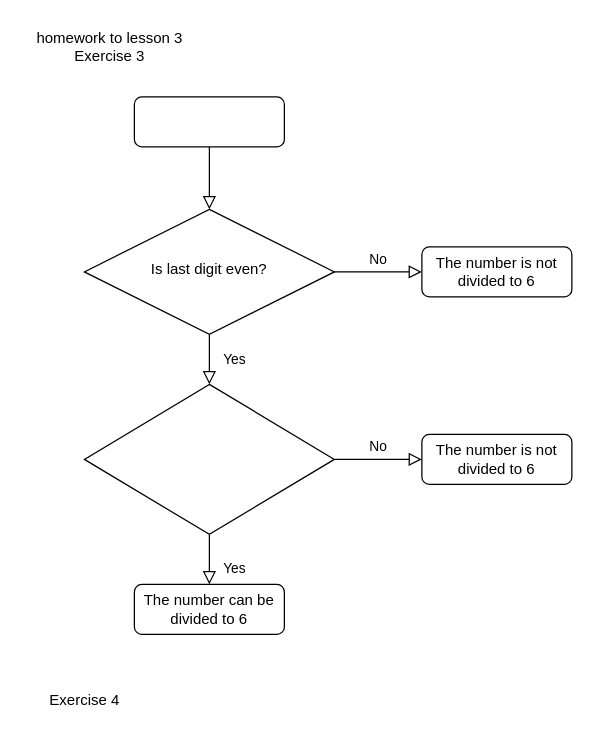
The diagram is 594 pixels wide and 740 high, and some of its shapes have lost their labels. Each missing label, with the centre of its shape:
"Does the sum of digits can be divided to 3" belongs at (x=208, y=458).
"Random number" belongs at (x=208, y=121).
